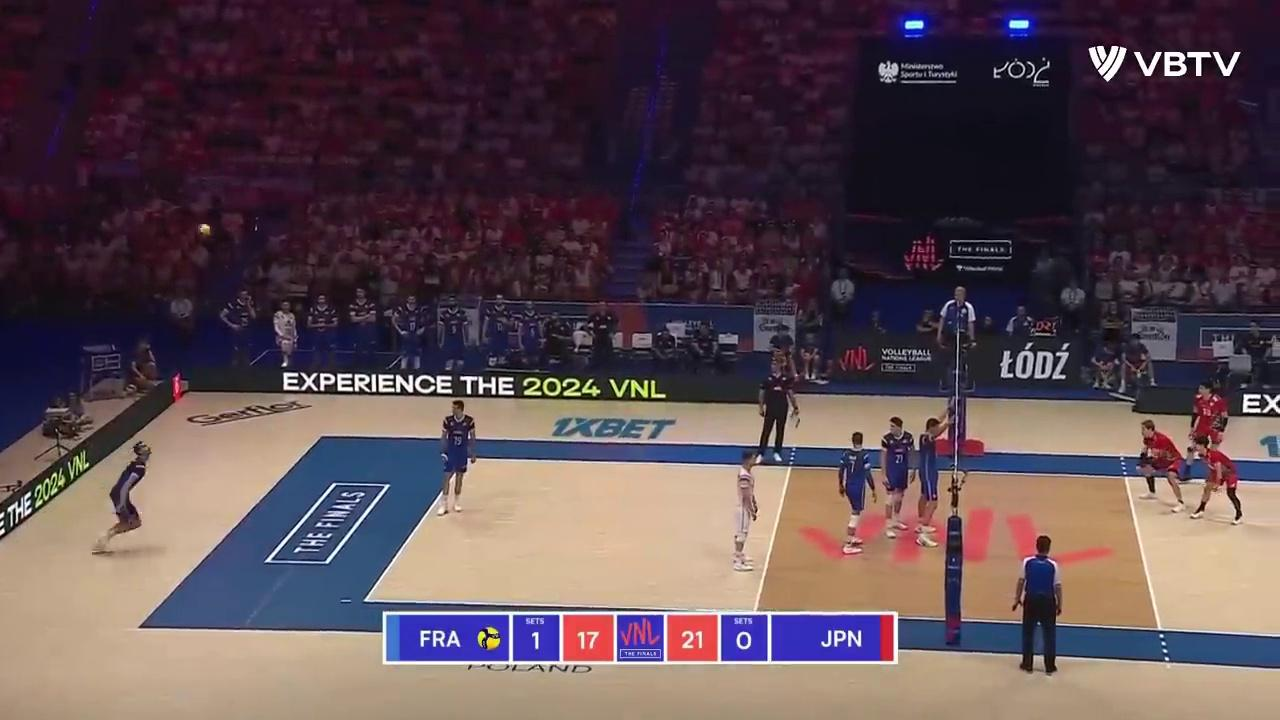ball: (198, 224, 211, 235)
